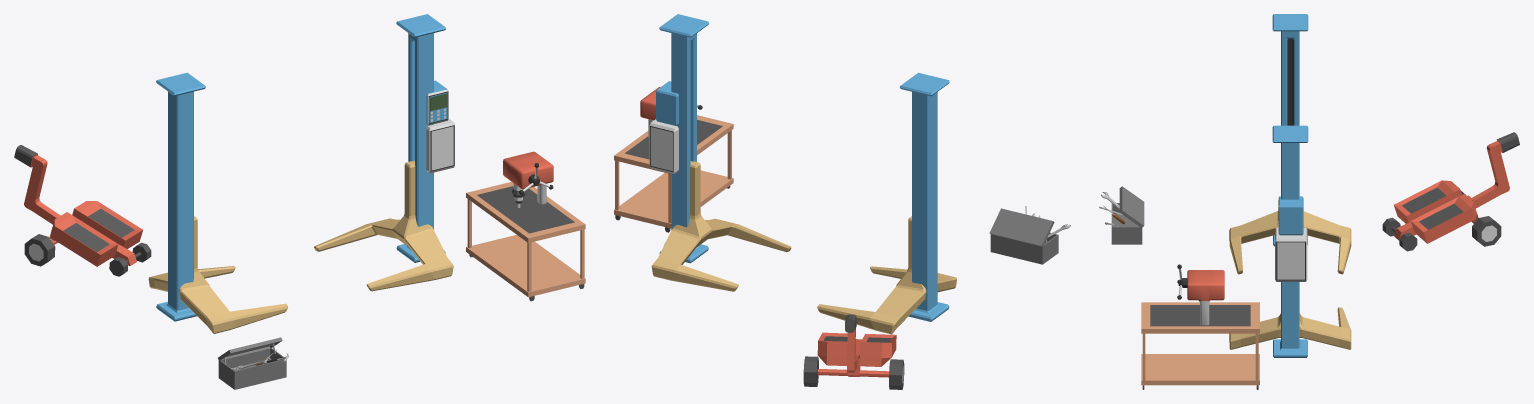
The model's file is WorkerPlace.fbx.
The picture shows the model from 3 angles, left to right: view 1: azimuth 30°, elevation 25°; view 2: azimuth 150°, elevation 25°; view 3: azimuth 270°, elevation 25°; orthographic projection. The views are drawn at different scales.
Parts seen in each view (by area): view 1: WorkerPlace; view 2: WorkerPlace; view 3: WorkerPlace.
Boxes of the visible parts, x1=… form: WorkerPlace: x1=14, y1=14, x2=585, y2=389; WorkerPlace: x1=614, y1=14, x2=1070, y2=389; WorkerPlace: x1=1099, y1=14, x2=1519, y2=389.
Size of the model in its own units: 559 by 311 by 544.
